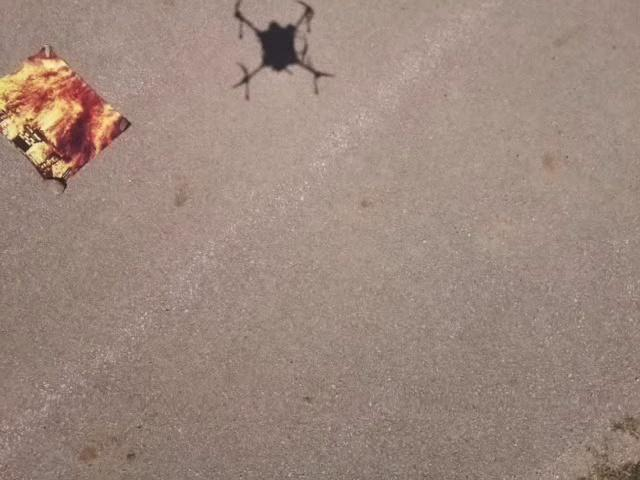fire-poster: (0, 42, 133, 195)
